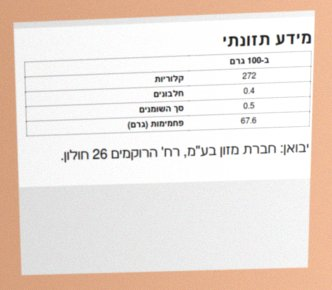carbs: (240, 116, 258, 126)
energy: (241, 71, 257, 82)
fat: (242, 101, 256, 111)
protein: (242, 86, 256, 97)
